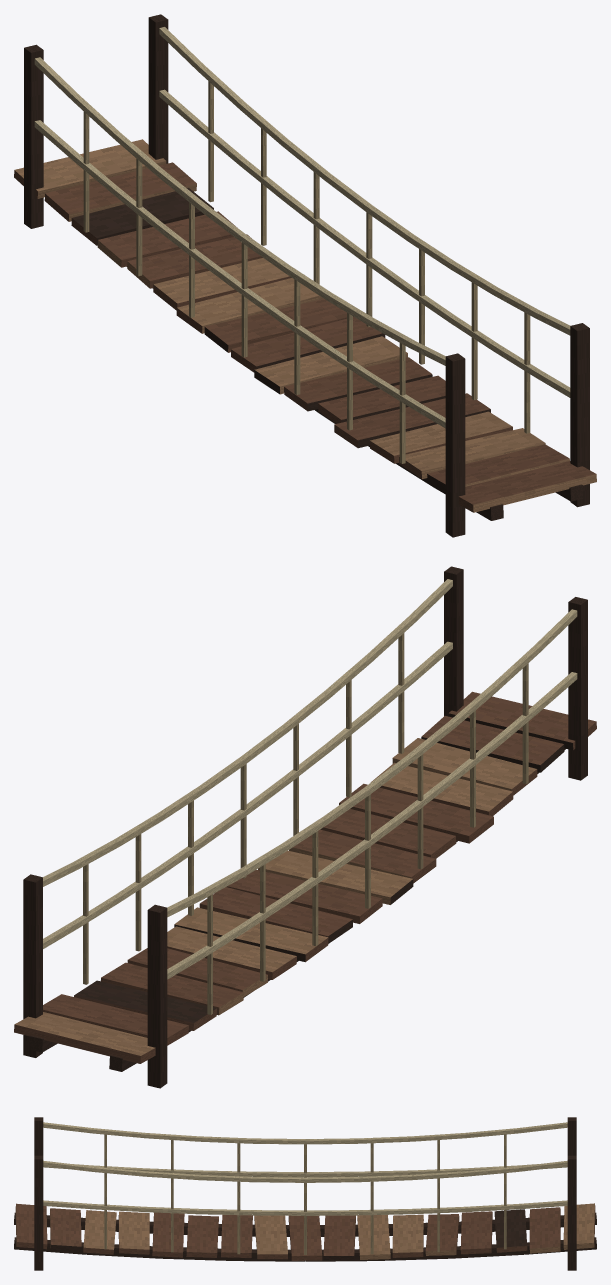
Rendered from bridge_plank.glb.
3 renders of one model, top to bottom at view 1: azimuth 30°, elevation 25°; view 2: azimuth 150°, elevation 25°; view 3: azimuth 270°, elevation 25°, orthographic. The views are drawn at different scales.
Parts seen in each view (by area): view 1: bridge_plank; view 2: bridge_plank; view 3: bridge_plank.
Boxes of the visible parts, x1=… form: bridge_plank: x1=14, y1=14, x2=596, y2=537; bridge_plank: x1=14, y1=566, x2=596, y2=1088; bridge_plank: x1=14, y1=1117, x2=596, y2=1270.
Size of the model in its own units: 1.1 by 1.35 by 6.41.
Materials: 1 (1 with a texture image).
